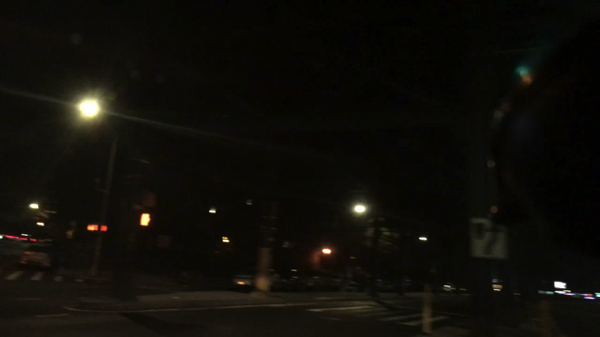car: (232, 269, 279, 291), (19, 246, 56, 271), (340, 284, 364, 294), (309, 272, 331, 282), (289, 275, 310, 285), (456, 291, 474, 300), (434, 291, 455, 298), (331, 275, 345, 285), (20, 234, 35, 243), (382, 281, 397, 288), (344, 275, 355, 284), (44, 238, 55, 247), (371, 279, 382, 287), (442, 283, 453, 289), (402, 279, 411, 286), (457, 285, 464, 292), (37, 237, 44, 244)
traffic light: (139, 212, 151, 228), (88, 224, 99, 232), (100, 225, 109, 232)
traffic sign: (469, 219, 506, 258), (155, 235, 172, 250)
